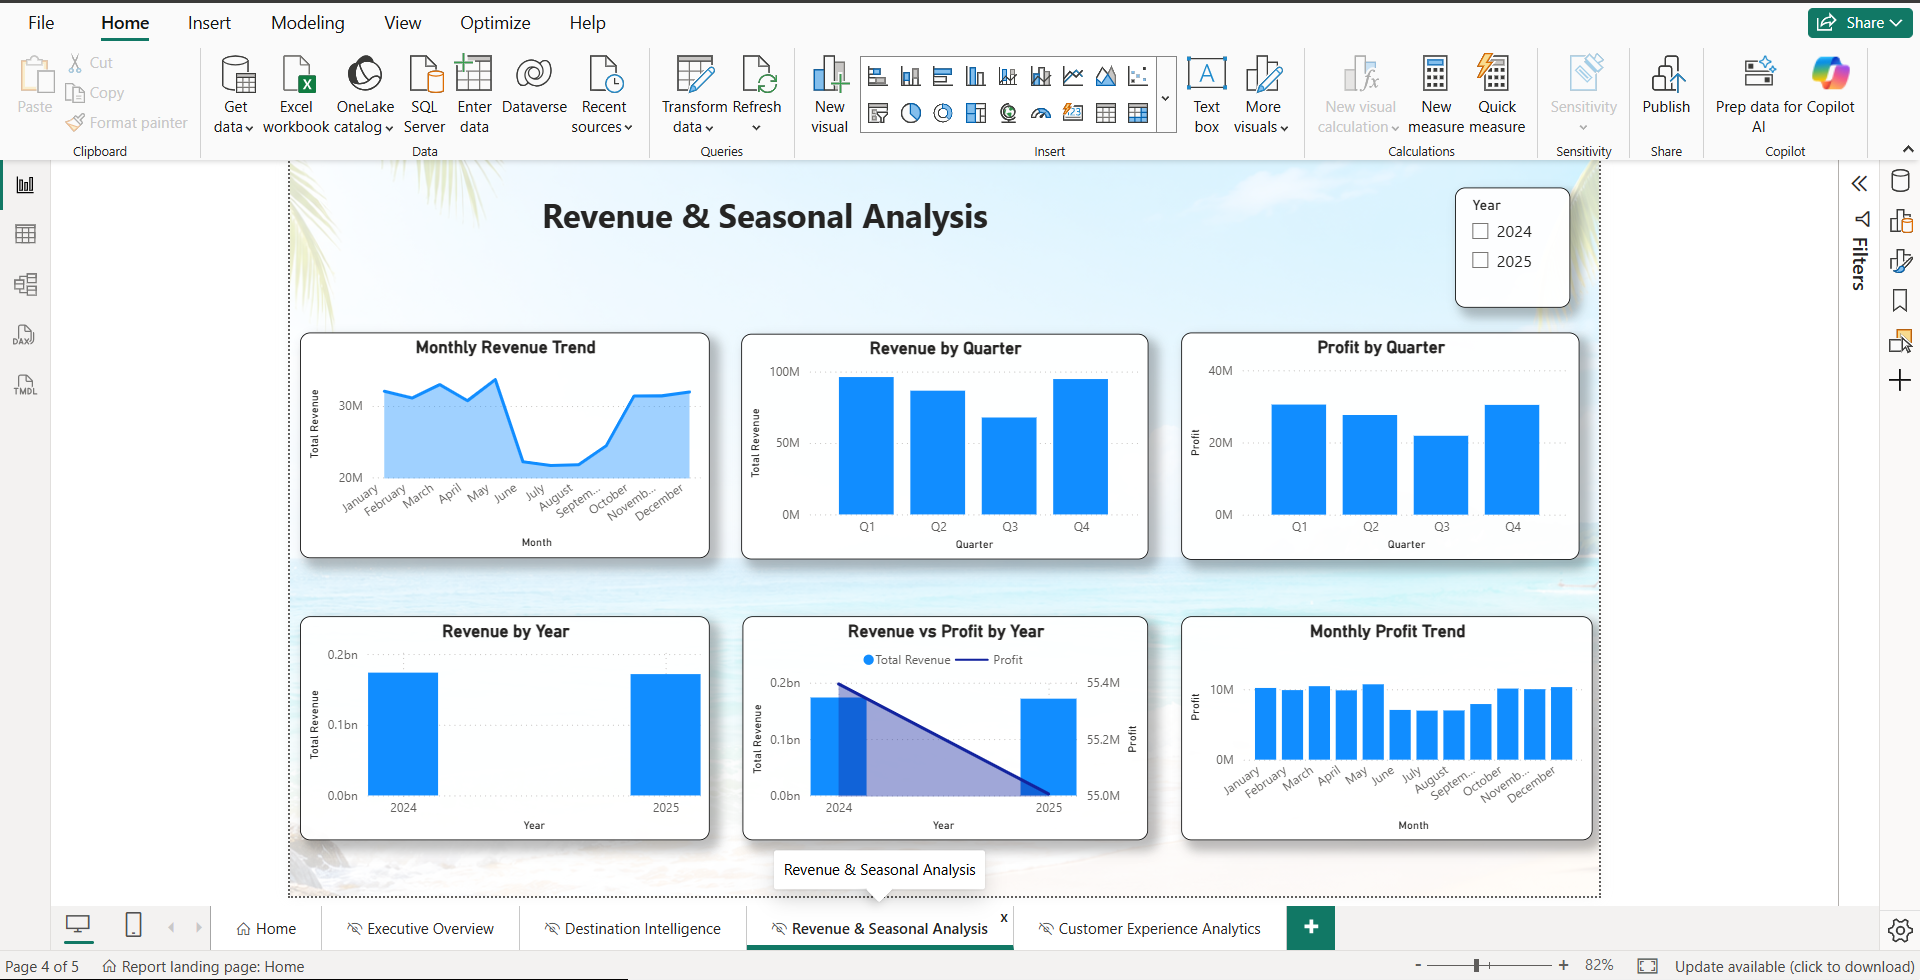

What the dashboard file says about the page in this screenshot:
{"tool":"powerbi","page":{"name":"Revenue & Seasonal Analysis","canvas":[1280,720],"ordinal":3},"visuals":[{"type":"textbox","box":[0,27.4,929.1,106.8],"z":0},{"type":"lineChart","title":"Monthly Revenue Trend ","fields":{"Category":["Dim_Date.Month"],"Y":["Sum(Fact_Booking.TotalRevenue)"]},"box":[10.1,168.8,401.1,220.7],"z":1000},{"type":"clusteredColumnChart","title":"Revenue by Quarter","fields":{"Category":["Dim_Date.Quarter"],"Y":["Sum(Fact_Booking.TotalRevenue)"]},"box":[441.5,170.2,398.2,220.7],"z":2000},{"type":"clusteredColumnChart","title":"Revenue by Year","fields":{"Category":["Dim_Date.Year"],"Y":["Sum(Fact_Booking.TotalRevenue)"]},"box":[10.1,445.8,401.1,219.3],"z":3000},{"type":"lineClusteredColumnComboChart","title":"Revenue vs Profit by Year","fields":{"Category":["Dim_Date.Year"],"Y":["Sum(Fact_Booking.TotalRevenue)"],"Y2":["Sum(Fact_Booking.Profit)"]},"box":[442.9,445.8,396.8,219.3],"z":4000},{"type":"slicer","fields":{"Values":["Dim_Date.Year"]},"box":[1139.7,26.9,112.5,117.4],"z":5000},{"type":"clusteredColumnChart","title":"Monthly Profit Trend","fields":{"Category":["Dim_Date.Month"],"Y":["Sum(Fact_Booking.Profit)"]},"box":[871.4,445.8,402.5,219.3],"z":6000},{"type":"clusteredColumnChart","title":"Profit by Quarter","fields":{"Category":["Dim_Date.Quarter"],"Y":["Sum(Fact_Booking.Profit)"]},"box":[871.4,168.8,389.5,222.2],"z":7000}]}

Visuals, with their boxes on the page's 1280x720 design canvas (x1, y1, x2, y2). These are canvas units, not pixel positions in the 1920x980 screenshot, which may show the page scaled, cropped or inside an application window:
textbox: rect(0, 27, 929, 134)
"Monthly Revenue Trend " lineChart: rect(10, 169, 411, 390)
"Revenue by Quarter" clusteredColumnChart: rect(442, 170, 840, 391)
"Revenue by Year" clusteredColumnChart: rect(10, 446, 411, 665)
"Revenue vs Profit by Year" lineClusteredColumnComboChart: rect(443, 446, 840, 665)
slicer - Dim_Date.Year: rect(1140, 27, 1252, 144)
"Monthly Profit Trend" clusteredColumnChart: rect(871, 446, 1274, 665)
"Profit by Quarter" clusteredColumnChart: rect(871, 169, 1261, 391)
